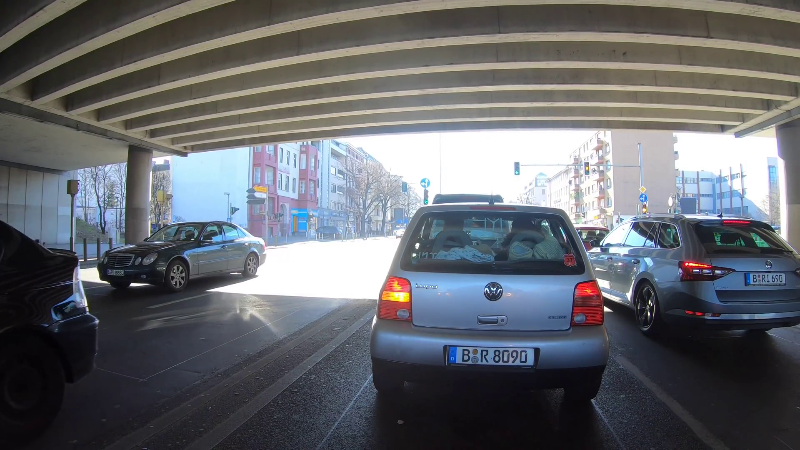Plate: (446, 345, 538, 370), (741, 271, 786, 286), (105, 268, 126, 277)
